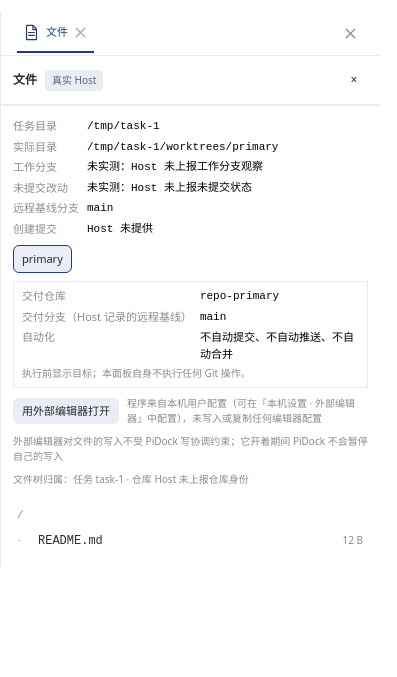
it: [UI 对齐] S8d production tool dock › renders real roots and a real tree, and opens a real preview
The image size is (397, 677).
Expected: the text "primary" is shown, [22, 251, 63, 267]
Click the text "README.md" at coordinates (70, 540), box [38, 532, 103, 548]
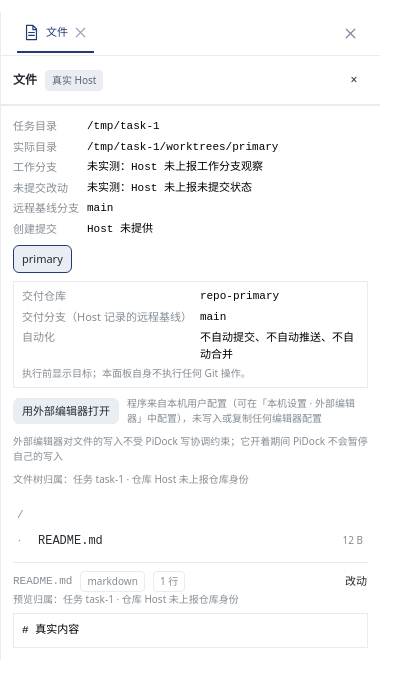
Expected: the text "# 真实内容" is shown, [13, 612, 368, 648]
